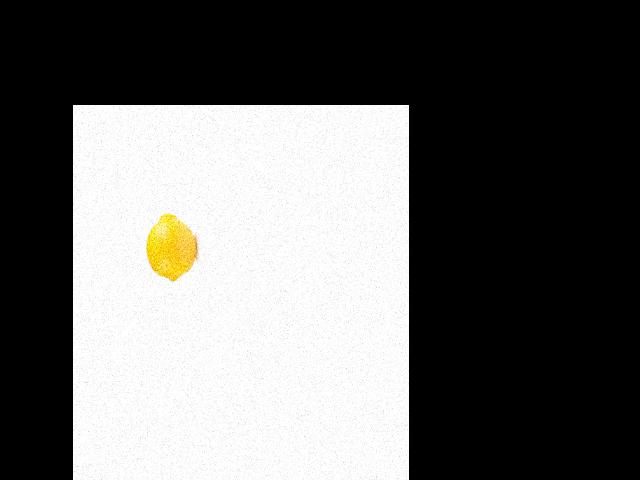lemon: (144, 210, 200, 282)
